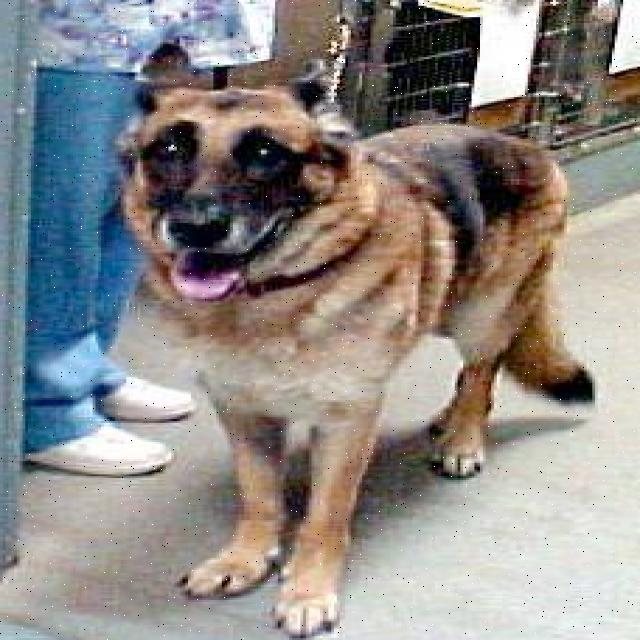Dog: (112, 38, 370, 311)
